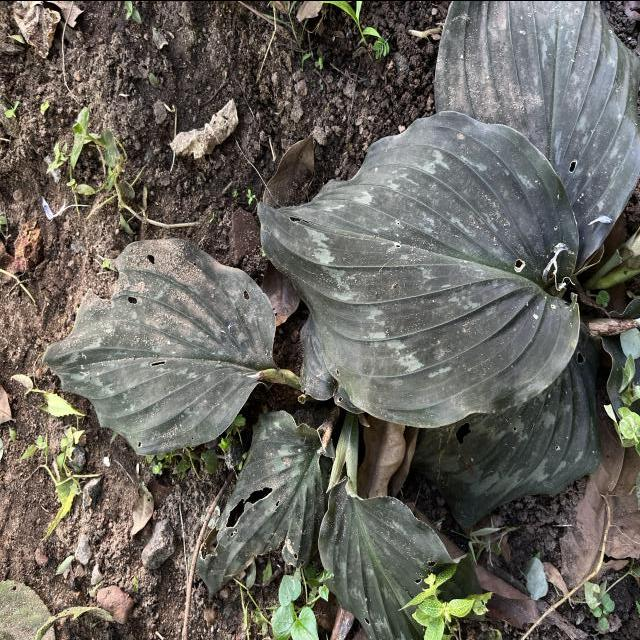Kaempferia galanga linn: (252, 106, 586, 432), (40, 234, 278, 456)
